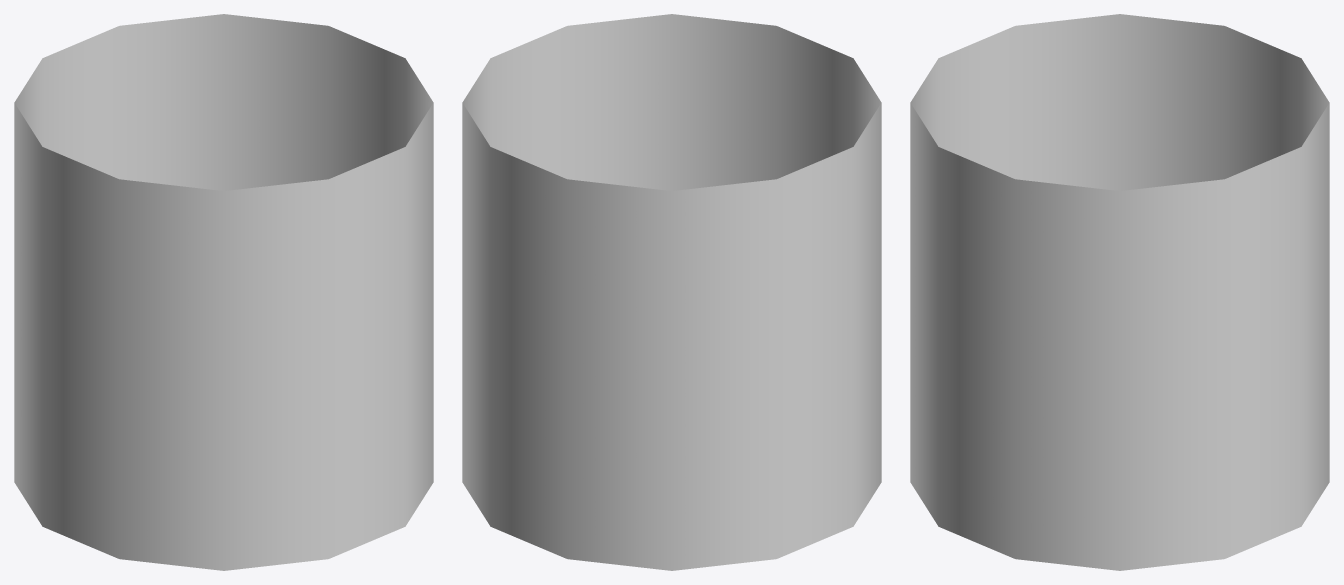
File: StarFieldAlphaCylinder.obj
3 views of the same model, side by side, from view 1: azimuth 30°, elevation 25°; view 2: azimuth 150°, elevation 25°; view 3: azimuth 270°, elevation 25° (orthographic).
Visible parts, largest first — view 1: Inner; view 2: Inner; view 3: Inner.
Part boxes in pixels (<box>): Inner: <box>14,14,433,570</box>; Inner: <box>462,14,881,570</box>; Inner: <box>910,14,1329,570</box>.
Size of the model in its own units: 100 by 100 by 100.
